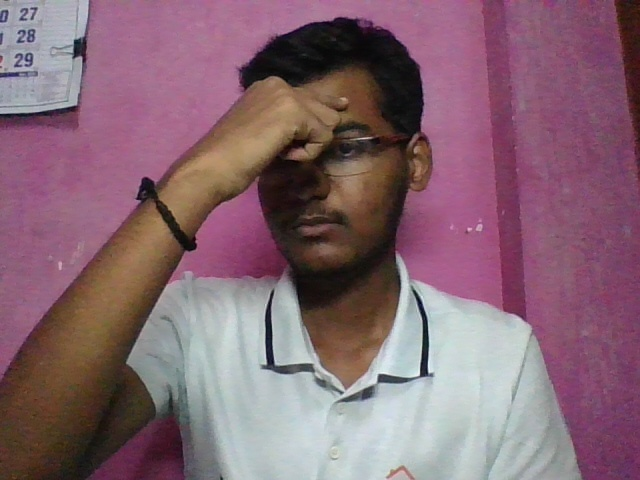Hello: (179, 67, 418, 221)
